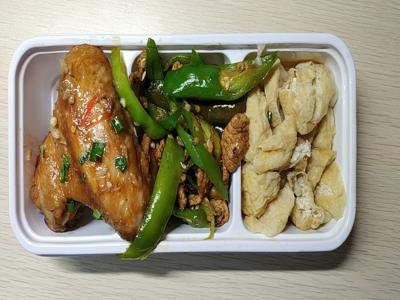cqj: (135, 49, 232, 229)
jt: (18, 50, 149, 239)
